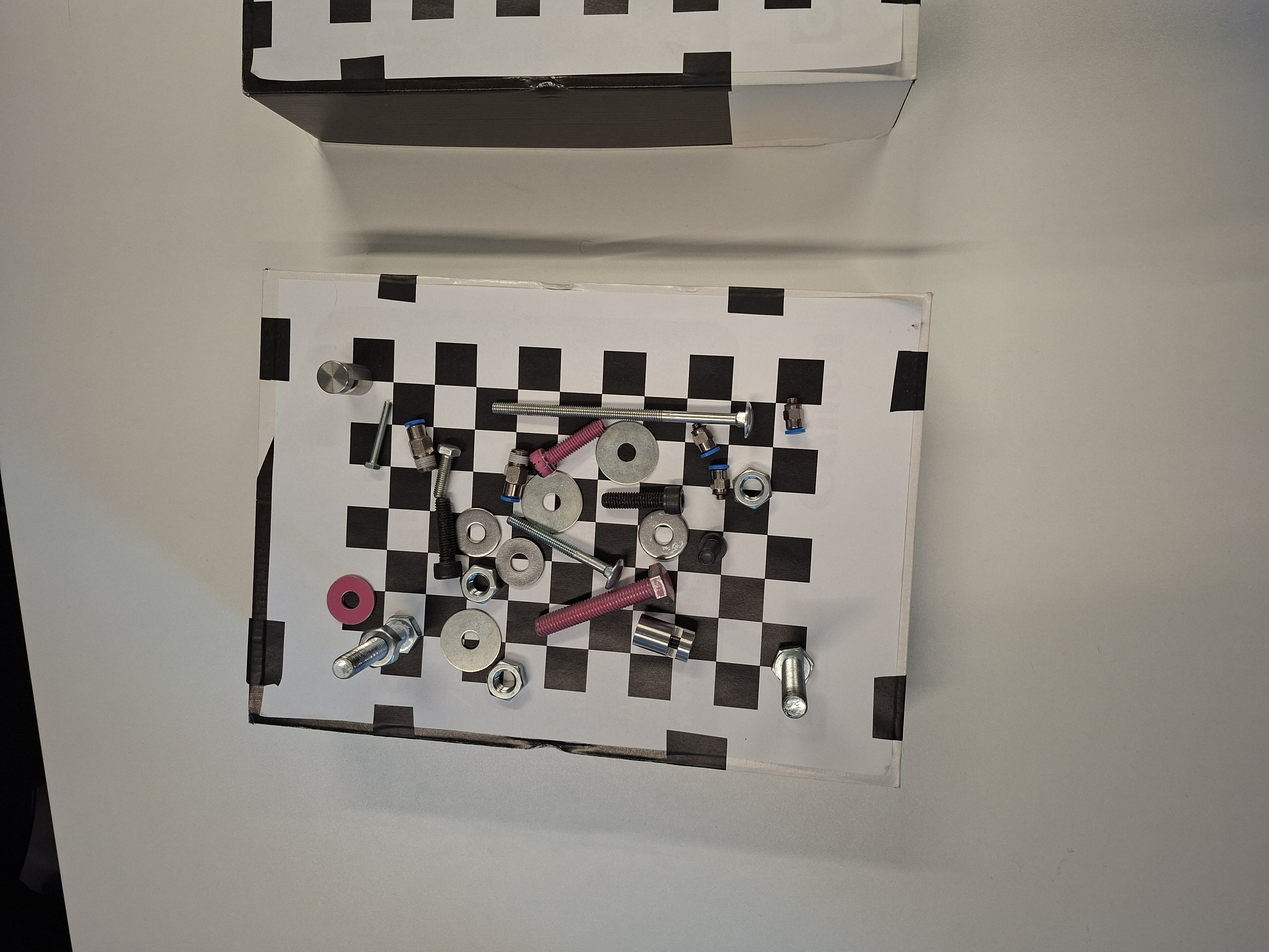allen_screw: (524, 411, 614, 485), (598, 480, 688, 519), (428, 493, 465, 585)
barrel_nut: (622, 606, 702, 668), (312, 354, 378, 401), (690, 524, 731, 575)
carriage_bolt: (486, 381, 755, 442), (498, 504, 632, 594)
hex_bolt: (524, 556, 683, 652), (319, 601, 430, 692), (762, 636, 830, 728), (360, 397, 398, 471), (426, 440, 466, 502)
hex_nut: (723, 459, 782, 518), (349, 619, 409, 675), (475, 652, 532, 710), (453, 557, 505, 611)
pneumatic_fitting: (495, 443, 536, 506), (400, 415, 442, 475), (684, 416, 723, 462), (776, 395, 809, 440), (705, 461, 735, 504)
washer: (434, 599, 515, 679), (593, 418, 668, 488), (518, 468, 588, 536), (318, 567, 378, 632), (445, 502, 506, 563), (488, 531, 548, 593), (633, 505, 694, 565)
